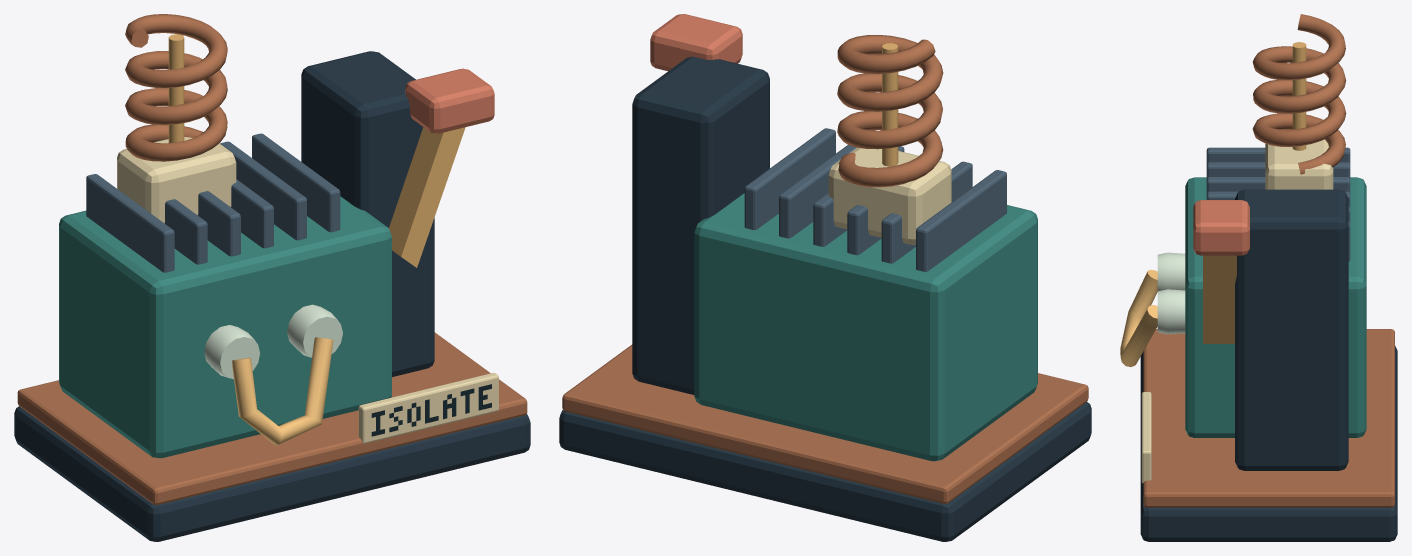
3 renders of one model, left to right at view 1: azimuth 30°, elevation 25°; view 2: azimuth 150°, elevation 25°; view 3: azimuth 270°, elevation 25°, orthographic. The views are drawn at different scales.
Parts seen in each view (by area): view 1: PR072 enamel and hardware; view 2: PR072 enamel and hardware; view 3: PR072 enamel and hardware.
Part boxes in pixels (bbox=[...]): PR072 enamel and hardware: bbox=[14, 14, 530, 541]; PR072 enamel and hardware: bbox=[559, 14, 1091, 541]; PR072 enamel and hardware: bbox=[1120, 14, 1397, 541].
Size of the model in its own units: 1.05 by 1.14 by 0.7268.
